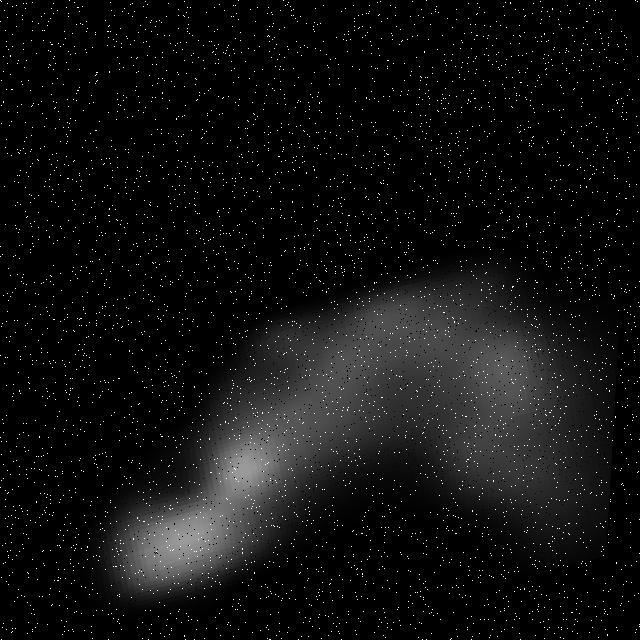person: (35, 232, 630, 640)
